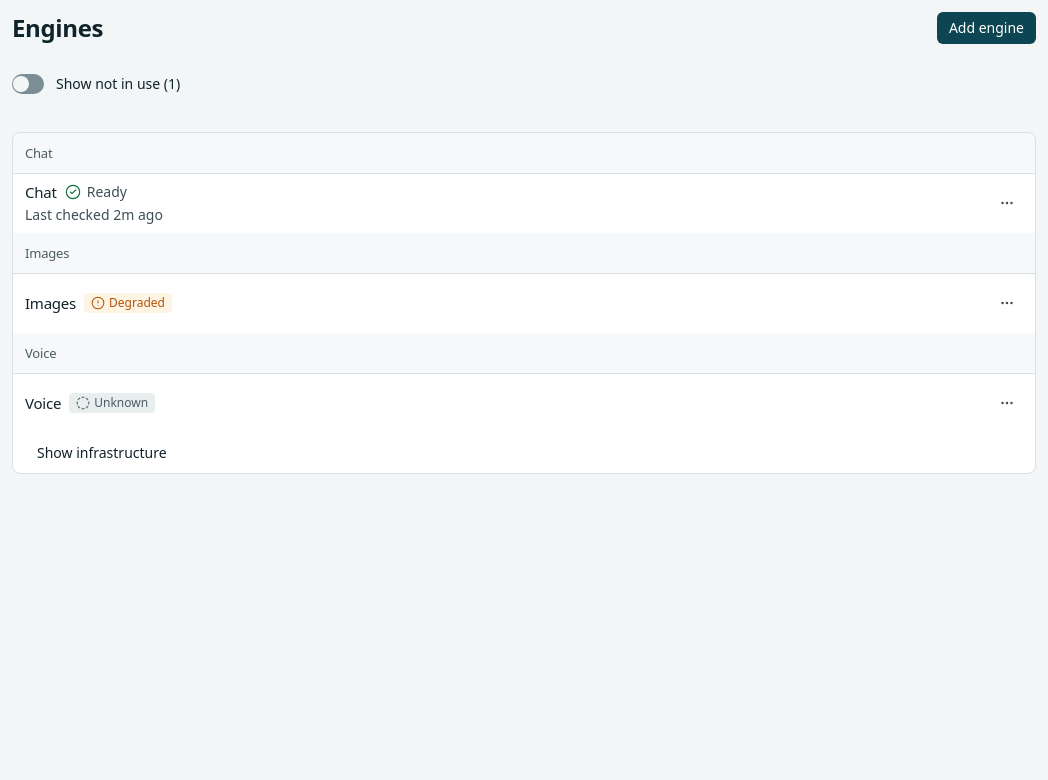
Scenario: shows Ready, Degraded, Off and Unknown with only recorded engine check times
The width and height of the screenshot is (1048, 780).
Click the switch named "Show not in use": (28, 84) 12,74 -> 44,94
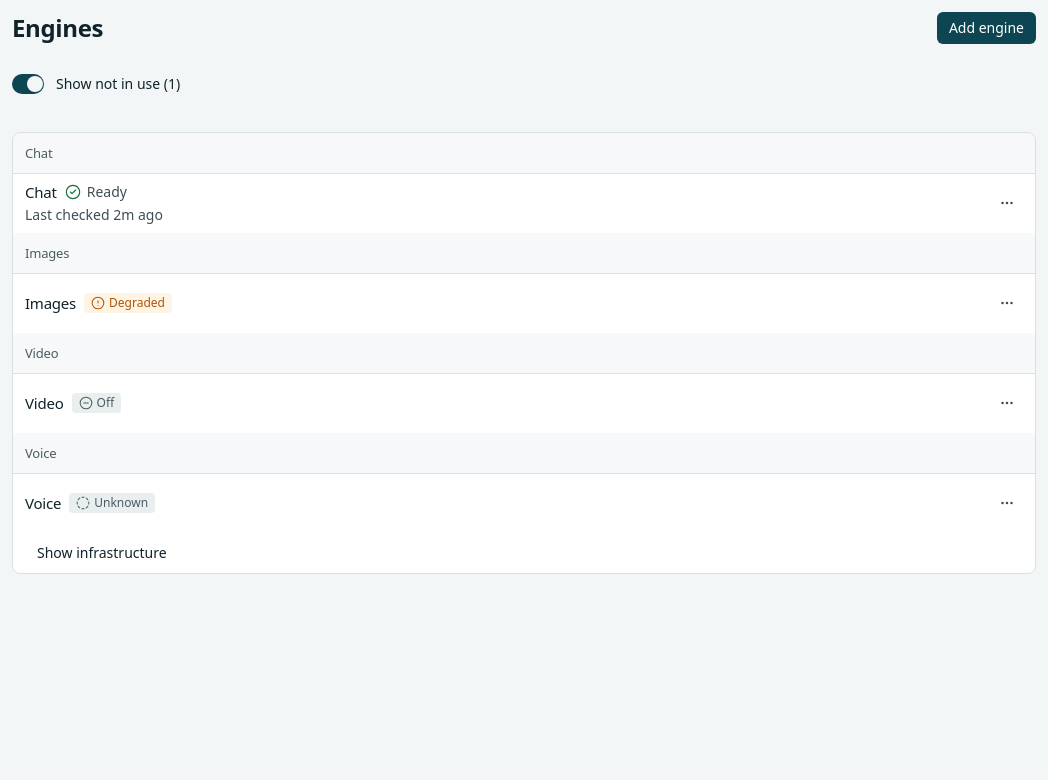
Expected: the row "Chat Ready Last checked 2m ago" is shown, 13,173 -> 1035,233
Now the text "Off" is shown, box 72,393 -> 121,413
